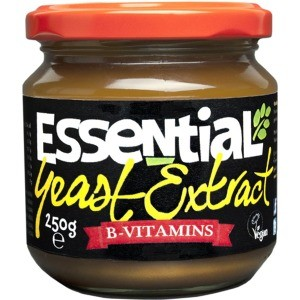yeast spread_brain food: (36, 85, 267, 230)
